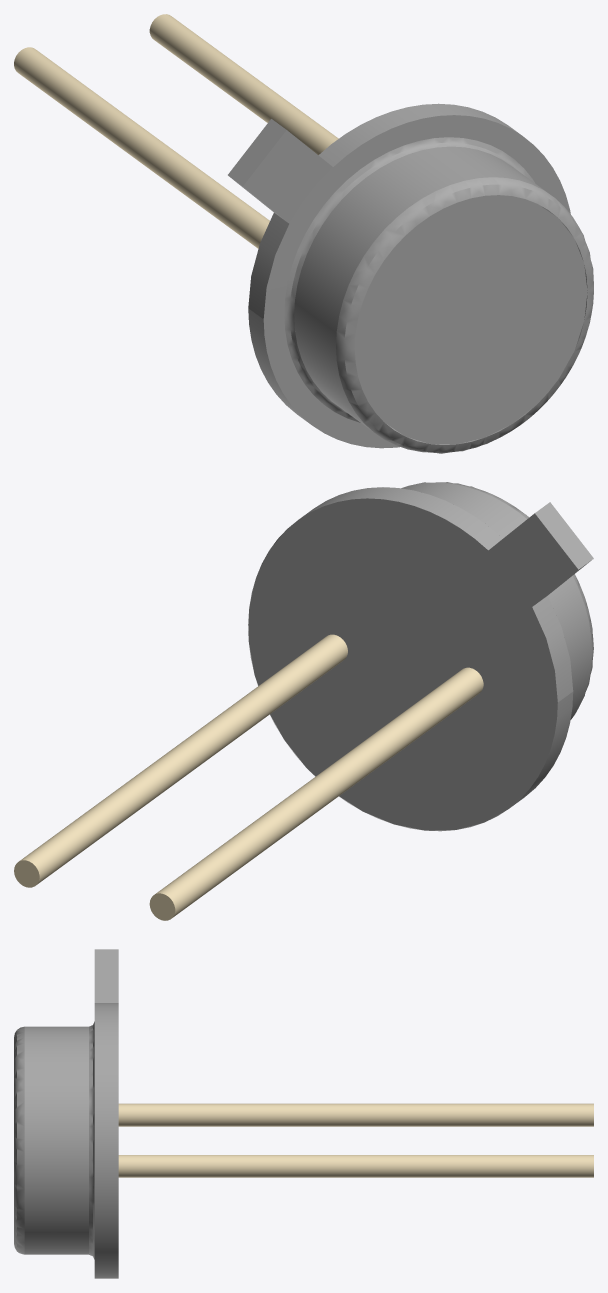
The picture shows the model from 3 angles, top to bottom: view 1: azimuth 30°, elevation 25°; view 2: azimuth 150°, elevation 25°; view 3: azimuth 270°, elevation 25°; orthographic projection. The views are drawn at different scales.
Parts seen in each view (by area): view 1: Shape_IndexedFaceSet.017, Shape_IndexedFaceSet.013, Shape_IndexedFaceSet.008, Shape_IndexedFaceSet.016, Shape_IndexedFaceSet.012, Shape_IndexedFaceSet.011, Shape_IndexedFaceSet.010, Shape_IndexedFaceSet.004, Shape_IndexedFaceSet.006, Shape_IndexedFaceSet.005, Shape_IndexedFaceSet; view 2: Shape_IndexedFaceSet.009, Shape_IndexedFaceSet.011, Shape_IndexedFaceSet.012, Shape_IndexedFaceSet.007, Shape_IndexedFaceSet.013, Shape_IndexedFaceSet.006, Shape_IndexedFaceSet.003, Shape_IndexedFaceSet.005, Shape_IndexedFaceSet, Shape_IndexedFaceSet.016; view 3: Shape_IndexedFaceSet.013, Shape_IndexedFaceSet.012, Shape_IndexedFaceSet.011, Shape_IndexedFaceSet.006, Shape_IndexedFaceSet.016, Shape_IndexedFaceSet.010, Shape_IndexedFaceSet.002.
Boxes of the visible parts, x1=… form: Shape_IndexedFaceSet.017: x1=355, y1=195, x2=587, y2=444; Shape_IndexedFaceSet.013: x1=294, y1=146, x2=587, y2=444; Shape_IndexedFaceSet.008: x1=263, y1=115, x2=570, y2=448; Shape_IndexedFaceSet.016: x1=336, y1=177, x2=593, y2=453; Shape_IndexedFaceSet.012: x1=14, y1=47, x2=269, y2=248; Shape_IndexedFaceSet.011: x1=149, y1=14, x2=338, y2=154; Shape_IndexedFaceSet.010: x1=284, y1=137, x2=534, y2=422; Shape_IndexedFaceSet.004: x1=243, y1=130, x2=332, y2=223; Shape_IndexedFaceSet.006: x1=248, y1=103, x2=520, y2=424; Shape_IndexedFaceSet.005: x1=248, y1=213, x2=288, y2=318; Shape_IndexedFaceSet: x1=228, y1=119, x2=286, y2=186; Shape_IndexedFaceSet.009: x1=248, y1=498, x2=557, y2=830; Shape_IndexedFaceSet.011: x1=19, y1=634, x2=347, y2=884; Shape_IndexedFaceSet.012: x1=155, y1=667, x2=483, y2=917; Shape_IndexedFaceSet.007: x1=381, y1=550, x2=531, y2=692; Shape_IndexedFaceSet.013: x1=401, y1=482, x2=591, y2=719; Shape_IndexedFaceSet.006: x1=248, y1=487, x2=573, y2=831; Shape_IndexedFaceSet.003: x1=488, y1=513, x2=578, y2=606; Shape_IndexedFaceSet.005: x1=532, y1=596, x2=573, y2=702; Shape_IndexedFaceSet: x1=535, y1=502, x2=593, y2=569; Shape_IndexedFaceSet.016: x1=413, y1=482, x2=593, y2=715; Shape_IndexedFaceSet.013: x1=24, y1=1026, x2=88, y2=1254; Shape_IndexedFaceSet.012: x1=118, y1=1103, x2=593, y2=1126; Shape_IndexedFaceSet.011: x1=118, y1=1155, x2=593, y2=1177; Shape_IndexedFaceSet.006: x1=94, y1=1003, x2=118, y2=1278; Shape_IndexedFaceSet.016: x1=14, y1=1026, x2=24, y2=1254; Shape_IndexedFaceSet.010: x1=89, y1=1021, x2=94, y2=1259; Shape_IndexedFaceSet.002: x1=94, y1=949, x2=118, y2=1002.
Bounding box in the file's own units: 2.44 × 2.44 × 4.8.
